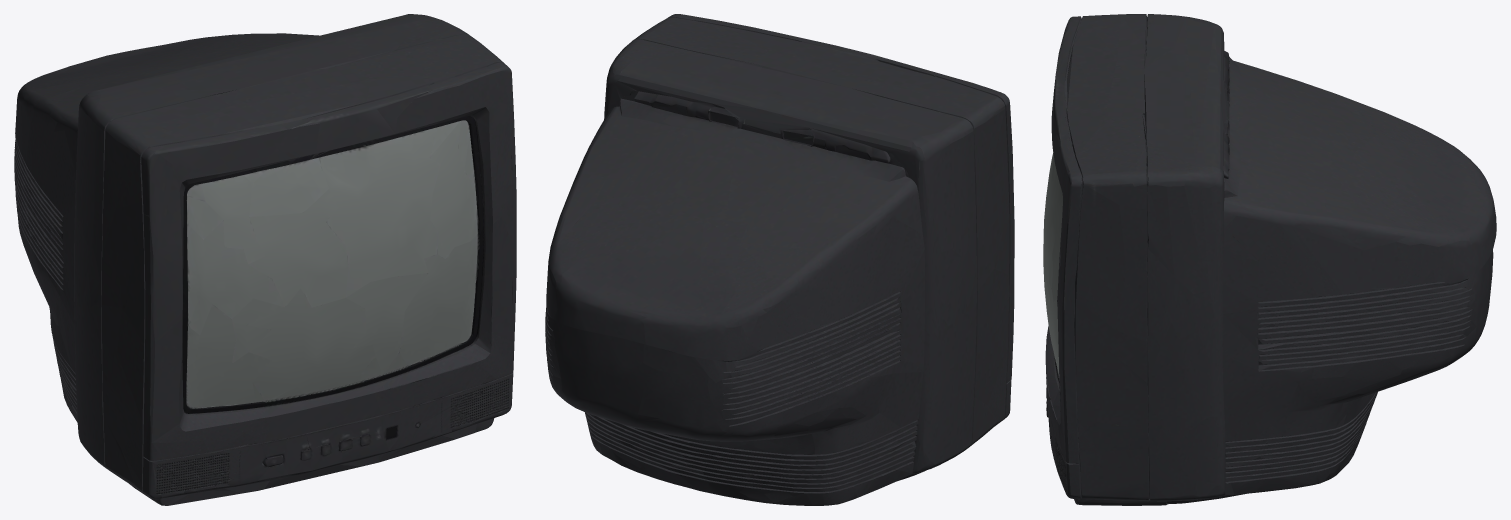
File: televisore.glb
The picture shows the model from 3 angles, left to right: view 1: azimuth 30°, elevation 25°; view 2: azimuth 150°, elevation 25°; view 3: azimuth 270°, elevation 25°; orthographic projection. The views are drawn at different scales.
Visible parts, largest first — view 1: Mesh_0; view 2: Mesh_0; view 3: Mesh_0.
Part boxes in pixels (bbox=[...]): Mesh_0: bbox=[14, 14, 516, 505]; Mesh_0: bbox=[545, 14, 1014, 505]; Mesh_0: bbox=[1043, 14, 1496, 505].
Bounding box in the file's own units: 1.69 × 1.57 × 1.9.
1 material, 1 textured.
